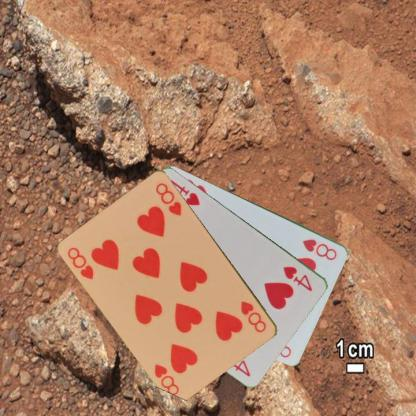4h: (280, 263, 314, 293)
8h: (65, 244, 95, 282), (238, 298, 268, 334), (300, 236, 338, 262)
